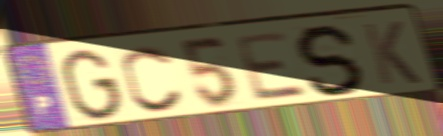5: (177, 32, 239, 111)
C: (119, 43, 187, 114)
E: (232, 29, 312, 104)
G: (59, 47, 125, 123)
K: (359, 19, 424, 88)
S: (294, 22, 368, 98)
